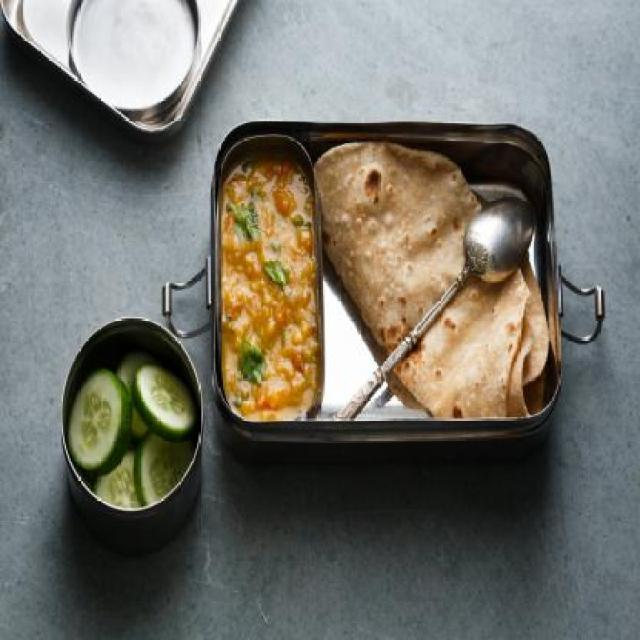chapati: (316, 139, 550, 418)
